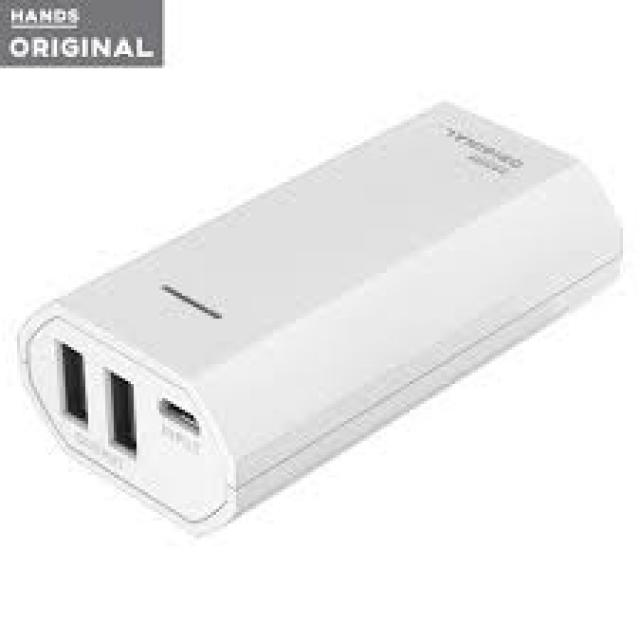non-organic waste: (16, 98, 621, 530)
